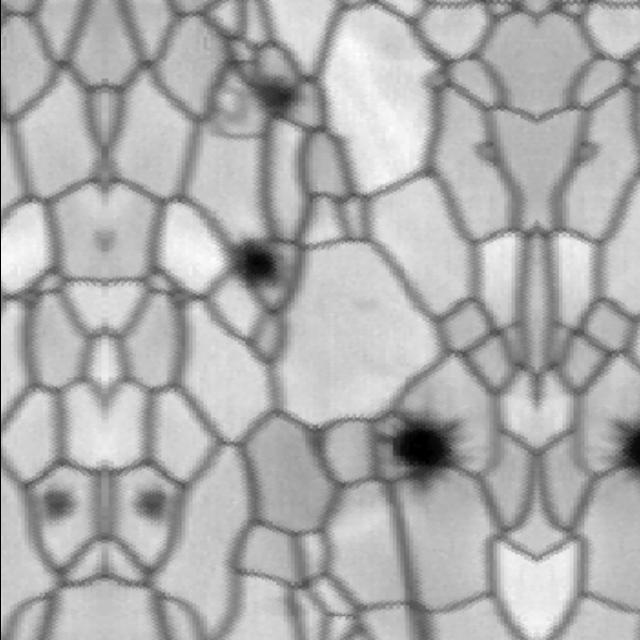good_void: (369, 404, 479, 513), (239, 78, 301, 127), (232, 237, 287, 292), (606, 416, 640, 494), (133, 485, 169, 523), (41, 485, 76, 523)
